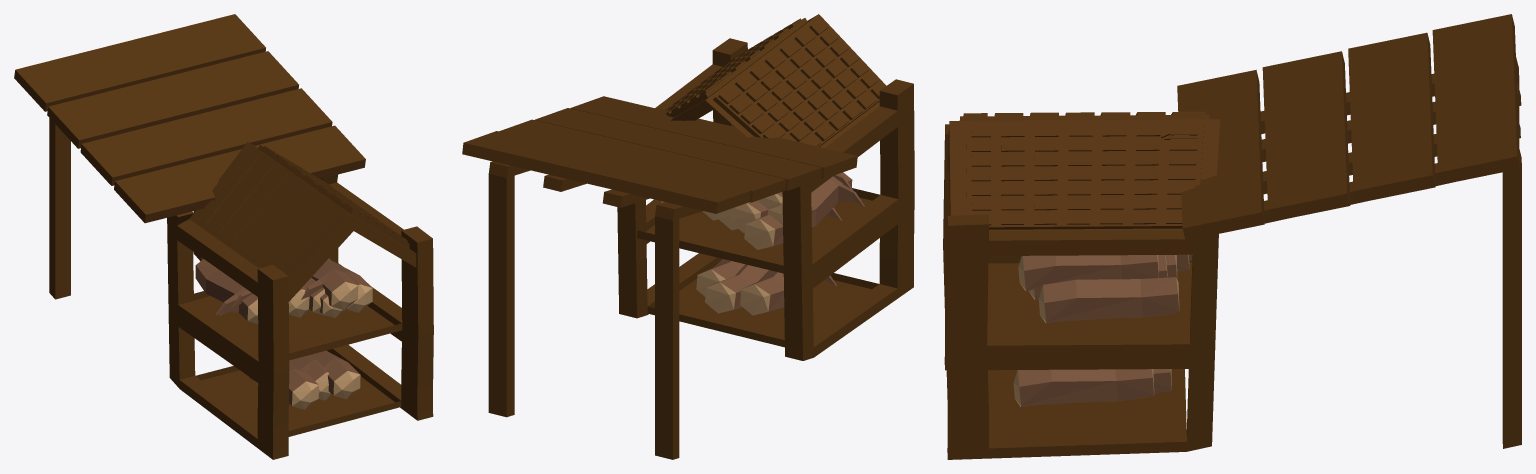
File: kahoy.fbx
3 views of the same model, side by side, from view 1: azimuth 30°, elevation 25°; view 2: azimuth 150°, elevation 25°; view 3: azimuth 270°, elevation 25° (orthographic). The views are drawn at different scales.
Parts seen in each view (by area): view 1: tree house, kahoy.025, kahoy, kahoy.020, kahoy.023, kahoy.019, kahoy.027, kahoy.015; view 2: tree house, kahoy.023, kahoy.025, kahoy.019, kahoy.014, kahoy.020, kahoy.013; view 3: tree house, kahoy.027, kahoy.020, kahoy.
Boxes of the visible parts, x1,y1,x2,y2 form: tree house: [14, 14, 433, 459]; kahoy.025: [195, 259, 258, 323]; kahoy: [301, 262, 358, 309]; kahoy.020: [308, 350, 360, 399]; kahoy.023: [249, 364, 318, 409]; kahoy.019: [289, 355, 332, 400]; kahoy.027: [325, 258, 372, 312]; kahoy.015: [289, 286, 309, 317]; tree house: [462, 14, 914, 459]; kahoy.023: [740, 270, 836, 315]; kahoy.025: [767, 172, 864, 227]; kahoy.019: [705, 264, 768, 313]; kahoy.014: [744, 207, 841, 249]; kahoy.020: [696, 259, 744, 296]; kahoy.013: [730, 201, 768, 232]; tree house: [943, 14, 1521, 459]; kahoy.027: [1038, 277, 1179, 323]; kahoy.020: [1013, 369, 1154, 407]; kahoy: [1018, 255, 1158, 291].
Size of the model in its own units: 30.82 by 31.7 by 52.08.
